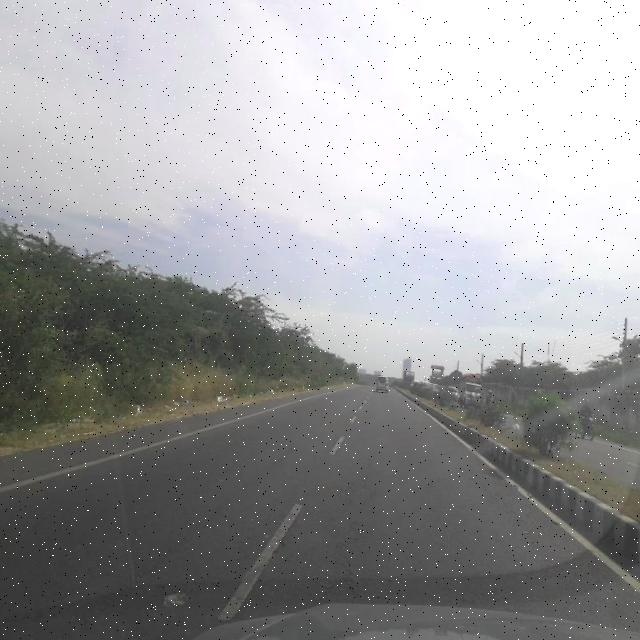D20: (316, 459, 390, 606)
